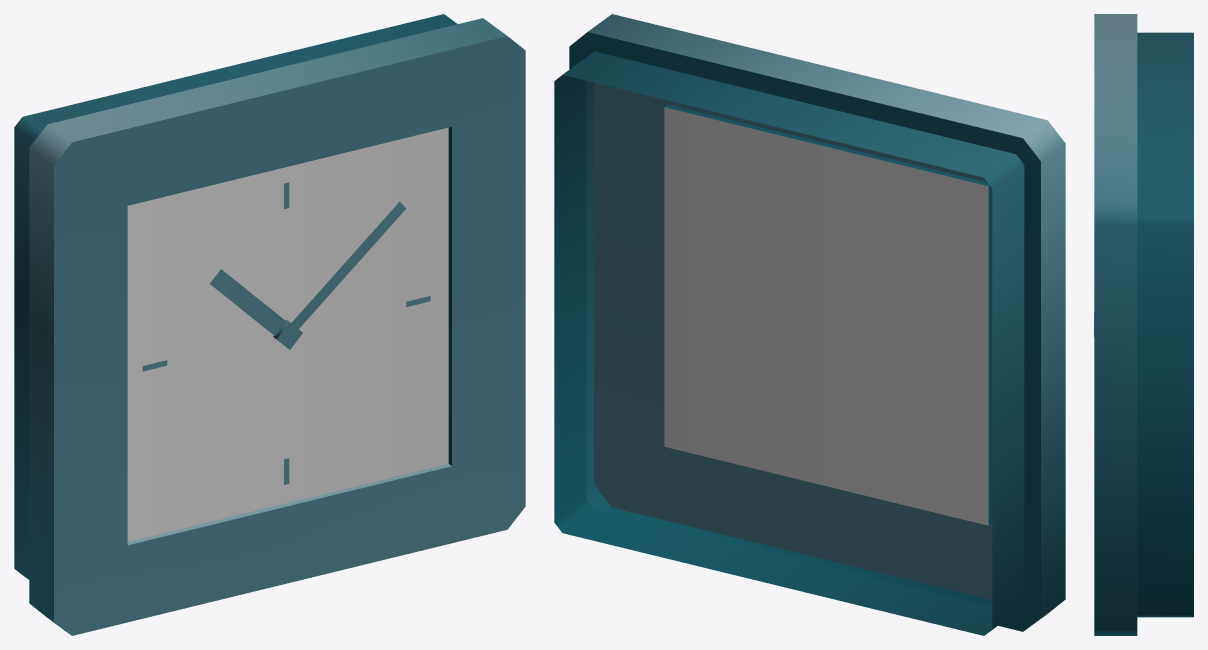
The model's file is CR_Clock_001.FBX.
3 views of the same model, side by side, from view 1: azimuth 30°, elevation 25°; view 2: azimuth 150°, elevation 25°; view 3: azimuth 270°, elevation 25° (orthographic). The views are drawn at different scales.
Visible parts, largest first — view 1: CR_Clock_001, Minutehand, Ourhand; view 2: CR_Clock_001; view 3: CR_Clock_001.
Part boxes in pixels (x1=…): CR_Clock_001: x1=14, y1=14, x2=525, y2=635; Minutehand: x1=291, y1=201, x2=405, y2=328; Ourhand: x1=210, y1=269, x2=286, y2=336; CR_Clock_001: x1=554, y1=14, x2=1065, y2=635; CR_Clock_001: x1=1094, y1=14, x2=1193, y2=635.
Bounding box in the file's own units: 26.06 × 26.06 × 5.43.
Materials: 1 (1 with a texture image).
